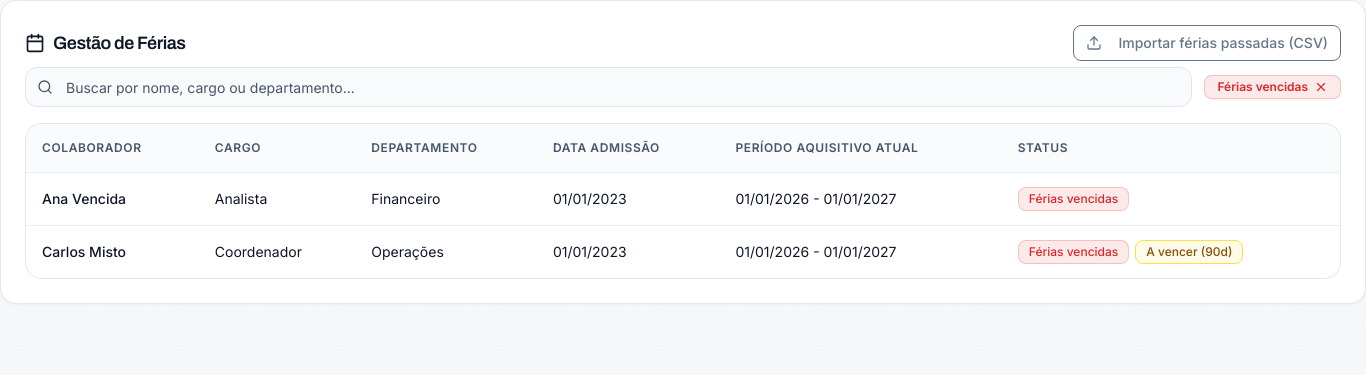
Test: ETAPA 3: ColaboradoresFeriasList — Filtro Visual, Chip, Badges e Empty State › Alerta de divergência aparece no cenário forçado (totalEsperadoDivergencia > 0 e lista vazia)
Type "Inexistente" into the field with placeholder "Buscar por nome, cargo ou departamento..." at (609, 87), box [25,67,1192,107]
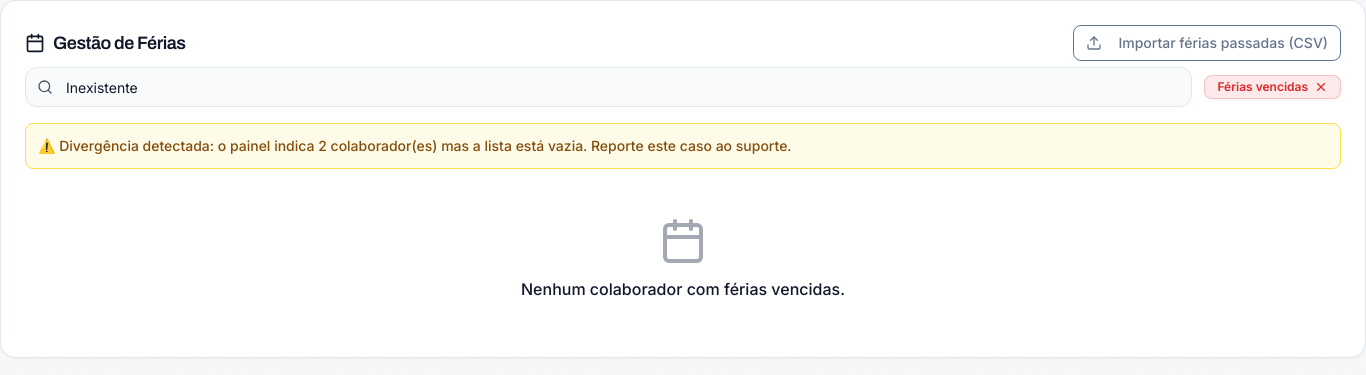
Now the message with test id "alerta-divergencia" shows "⚠️ Divergência detectada: o painel indica 2 colaborador(es) mas a lista está vazia.", box [25,123,1341,169]
